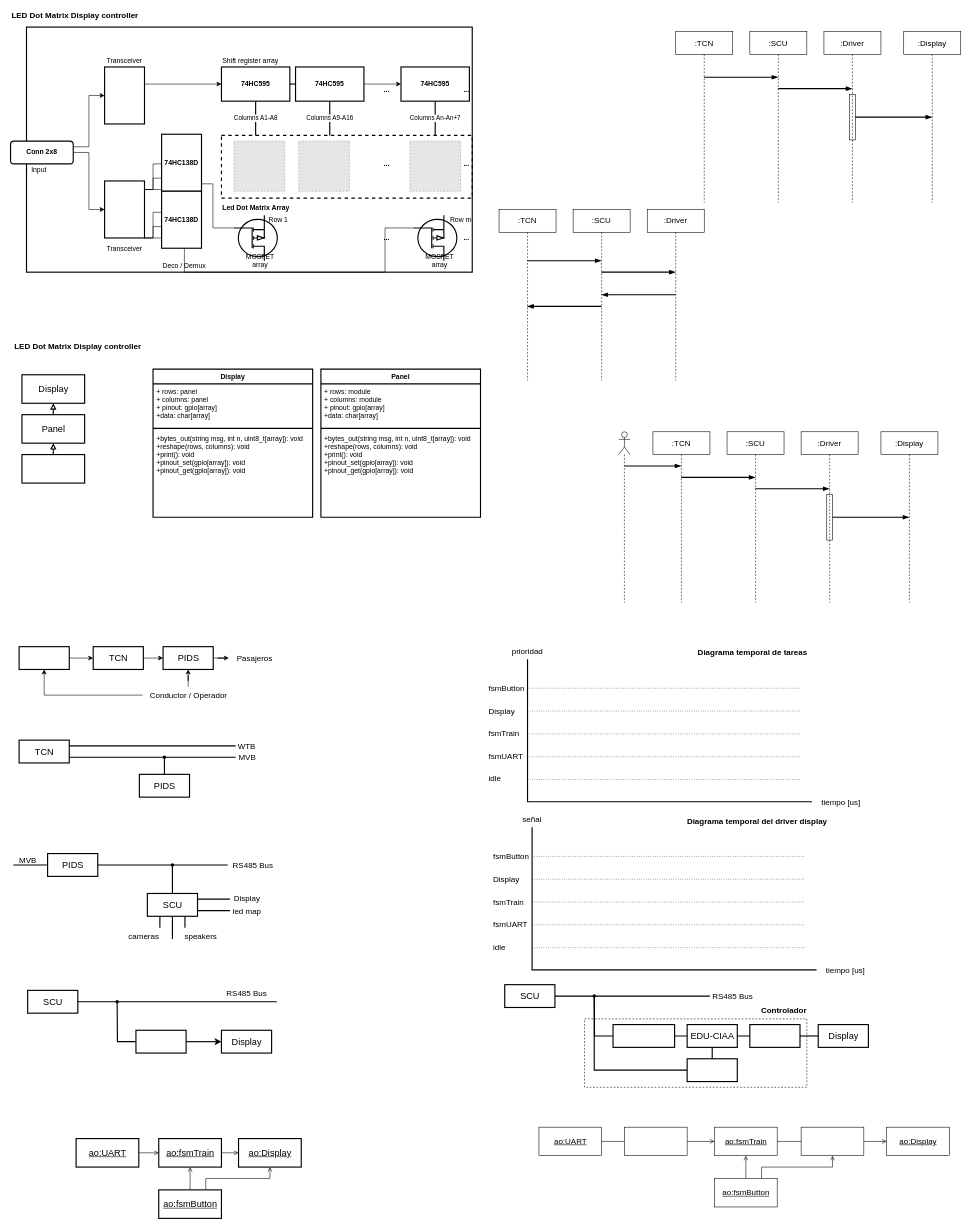
Image size: 971x1228. Some labels were removed from this diagram. Grey dashed boxes stand in for pictures. The shapes that lost their labels are listed below. From the top down, each one's box as (x1, y1, x2, y2) in pixels, then its label:
(104, 66, 145, 124): 74HC245D B-->A
(104, 180, 145, 238): 74HC245D A-->B
(21, 454, 85, 483): Module
(18, 646, 70, 670): Tren
(135, 1029, 186, 1053): Driver
(612, 1024, 675, 1048): RS485/UART
(749, 1024, 800, 1048): adapter
(686, 1058, 738, 1082): DC/DC
(624, 1127, 687, 1156): f(dataframe)
(801, 1127, 864, 1156): g(matrix)
